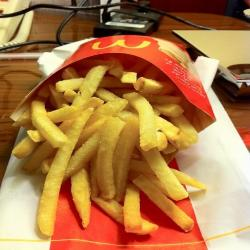fries: (22, 44, 206, 238)
